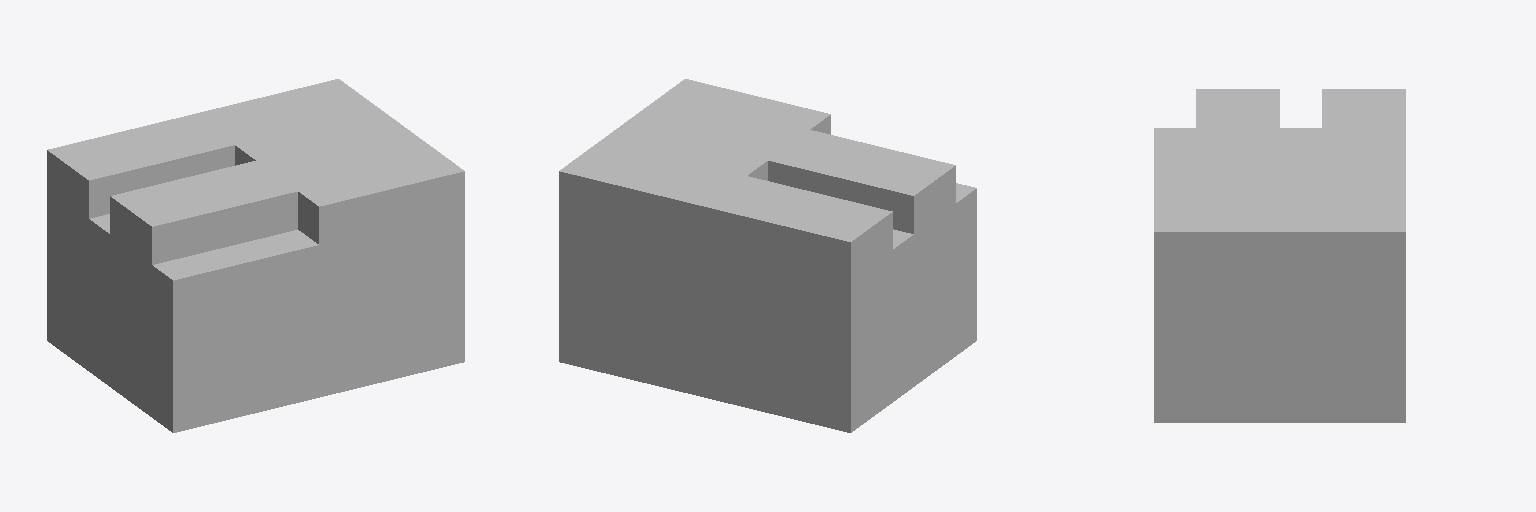
File: gage03.obj
3 views of the same model, side by side, from view 1: azimuth 30°, elevation 25°; view 2: azimuth 150°, elevation 25°; view 3: azimuth 270°, elevation 25° (orthographic).
Bounding box in the file's own units: 8 × 5 × 6.